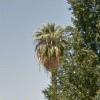Palm tree: (27, 13, 73, 92)
